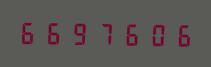nine: (67, 19, 91, 46)
seven: (92, 19, 116, 47)
six: (42, 18, 66, 46), (17, 18, 41, 45), (117, 20, 141, 47), (167, 21, 191, 48)
zero: (142, 20, 166, 48)
